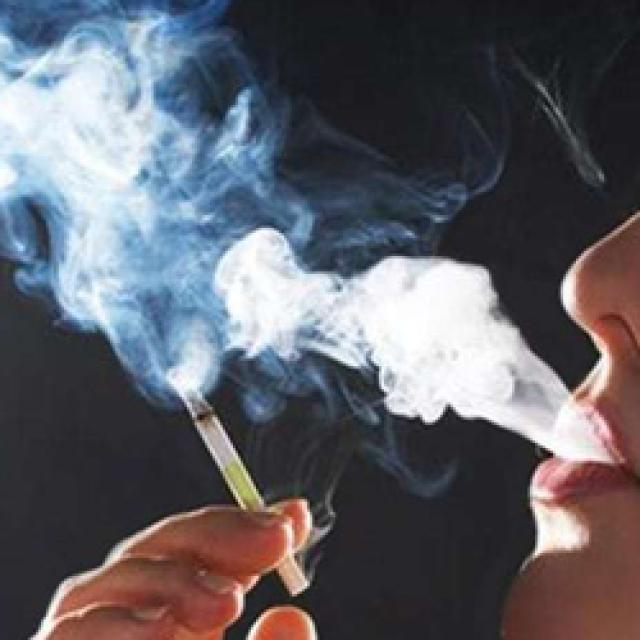Smooking: (180, 376, 320, 600)
